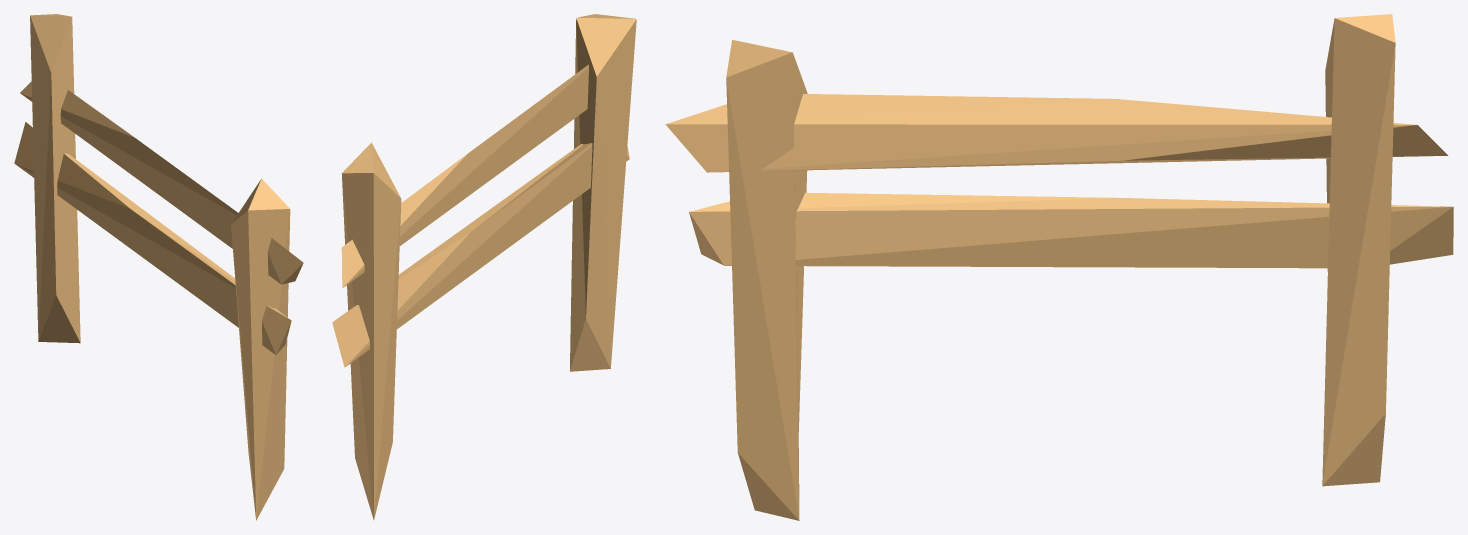
3 renders of one model, left to right at view 1: azimuth 30°, elevation 25°; view 2: azimuth 150°, elevation 25°; view 3: azimuth 270°, elevation 25°, orthographic. The views are drawn at different scales.
Parts seen in each view (by area): view 1: mesh_1043041082, mesh_1108424418, mesh_1921632631, mesh_171933455; view 2: mesh_1108424418, mesh_1043041082, mesh_1921632631, mesh_171933455; view 3: mesh_1921632631, mesh_171933455, mesh_1108424418, mesh_1043041082.
Boxes of the visible parts, x1,y1,x2,y2 form: mesh_1043041082: [30, 14, 80, 343]; mesh_1108424418: [231, 178, 290, 520]; mesh_1921632631: [14, 122, 291, 354]; mesh_171933455: [20, 81, 303, 284]; mesh_1108424418: [570, 14, 636, 371]; mesh_1043041082: [341, 142, 401, 520]; mesh_1921632631: [332, 143, 629, 367]; mesh_171933455: [341, 64, 588, 287]; mesh_1921632631: [689, 192, 1453, 268]; mesh_171933455: [665, 94, 1448, 172]; mesh_1108424418: [726, 39, 807, 520]; mesh_1043041082: [1322, 14, 1395, 486].
Bounding box in the file's own units: 10.62 × 88.73 × 126.
